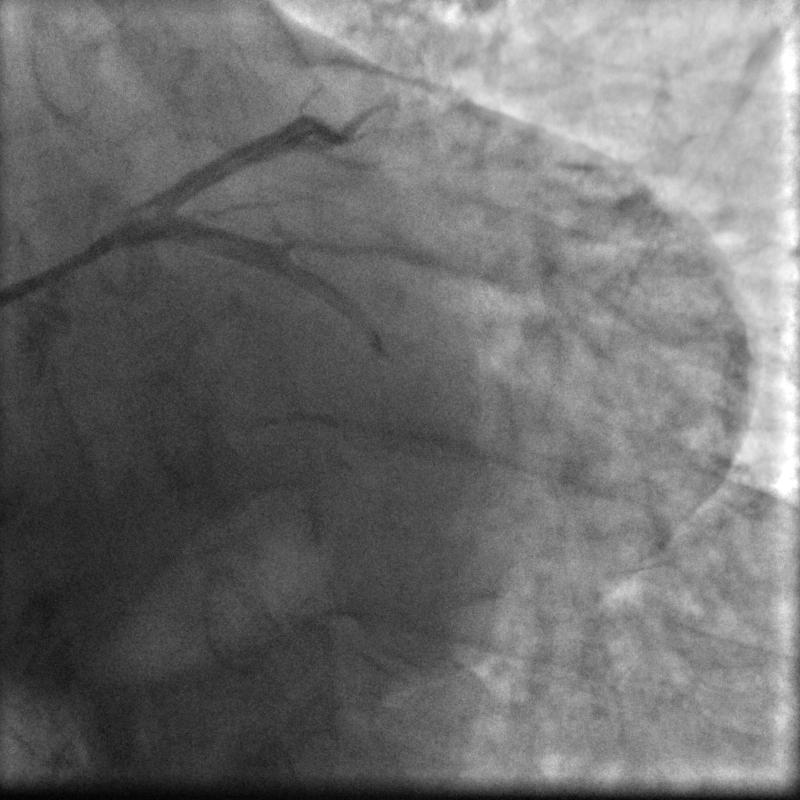Stenosis: (358, 305, 385, 347)
